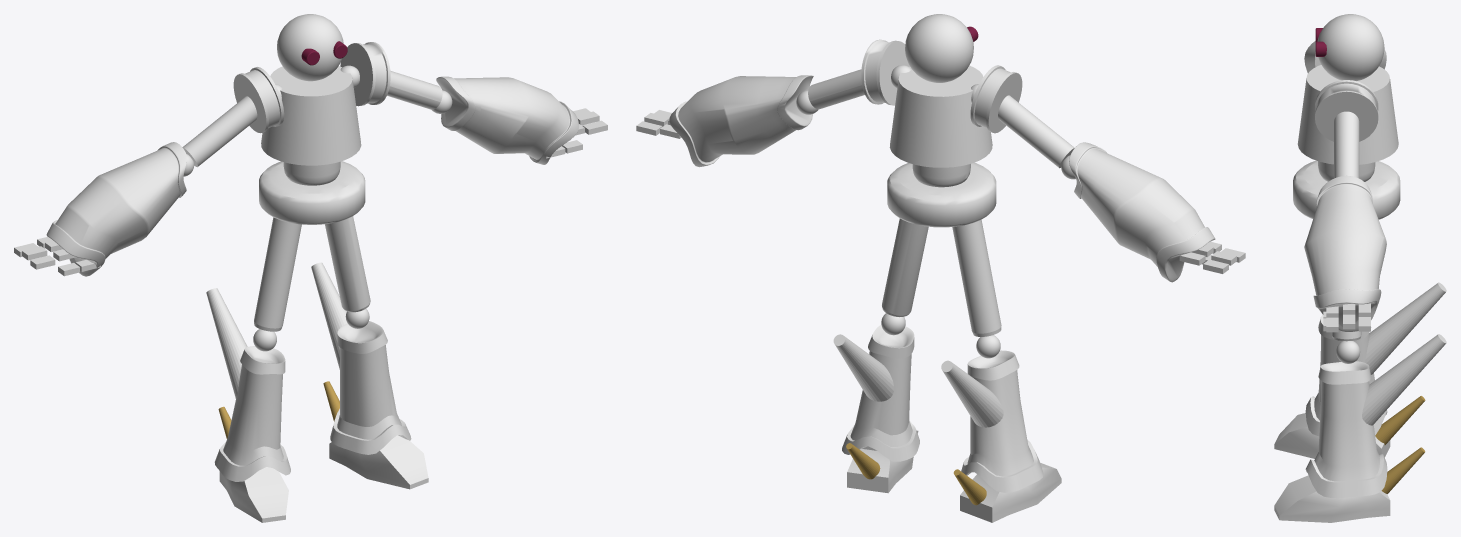
File: Platcharactermodel2celltest.fbx
3 renders of one model, left to right at view 1: azimuth 30°, elevation 25°; view 2: azimuth 150°, elevation 25°; view 3: azimuth 270°, elevation 25°, orthographic. The views are drawn at different scales.
Visible parts, largest first — view 1: Cylinder.007, Cylinder.005, Cylinder.009, Cylinder.003, Cube.008, Cylinder.002, Cylinder.008, Cylinder.006, Cylinder.020, Sphere.004, Cylinder.001, Sphere.001; view 2: Cylinder.007, Cylinder.005, Cylinder.009, Cylinder.003, Cylinder.002, Cylinder.008, Cube.008, Cylinder.020, Sphere.004, Cylinder.006, Cylinder.019, Cylinder.001 (+1 smaller); view 3: Cylinder.005, Cylinder.007, Cylinder.020, Cube.008, Cylinder.009, Sphere.004, Cylinder.008, Cylinder.002, Cylinder.006, Cylinder.019, Cylinder.001, Sphere.001 (+2 smaller).
Part boxes in pixels (x1,y1,x2,y2): Cylinder.007: (46, 76, 578, 276); Cylinder.005: (214, 321, 411, 481); Cylinder.009: (261, 66, 361, 165); Cylinder.003: (254, 216, 370, 331); Cube.008: (219, 435, 428, 522); Cylinder.002: (259, 161, 365, 224); Cylinder.008: (233, 42, 390, 133); Cylinder.006: (182, 70, 442, 167); Cylinder.020: (206, 262, 347, 398); Sphere.004: (277, 14, 343, 81); Cylinder.001: (283, 161, 340, 185); Sphere.001: (253, 309, 369, 351); Cylinder.007: (669, 75, 1215, 282); Cylinder.005: (842, 325, 1043, 492); Cylinder.009: (889, 65, 992, 167); Cylinder.003: (882, 218, 1001, 336); Cylinder.002: (887, 162, 996, 227); Cylinder.008: (861, 39, 1022, 133); Cube.008: (847, 430, 1061, 522); Cylinder.020: (833, 334, 1003, 427); Sphere.004: (905, 14, 973, 82); Cylinder.006: (808, 69, 1074, 168); Cylinder.019: (846, 443, 986, 505); Cylinder.001: (912, 164, 970, 187); Cylinder.005: (1305, 314, 1387, 498); Cylinder.007: (1304, 41, 1386, 331); Cylinder.020: (1362, 282, 1446, 425); Cube.008: (1274, 413, 1390, 522); Cylinder.009: (1297, 65, 1398, 164); Sphere.004: (1317, 14, 1384, 81); Cylinder.008: (1315, 51, 1378, 141); Cylinder.002: (1293, 160, 1400, 219); Cylinder.006: (1334, 111, 1359, 178); Cylinder.019: (1375, 396, 1425, 493); Cylinder.001: (1318, 161, 1375, 181); Sphere.001: (1336, 341, 1360, 363).
Bounding box in the file's own units: 335 × 259 × 87.07.
